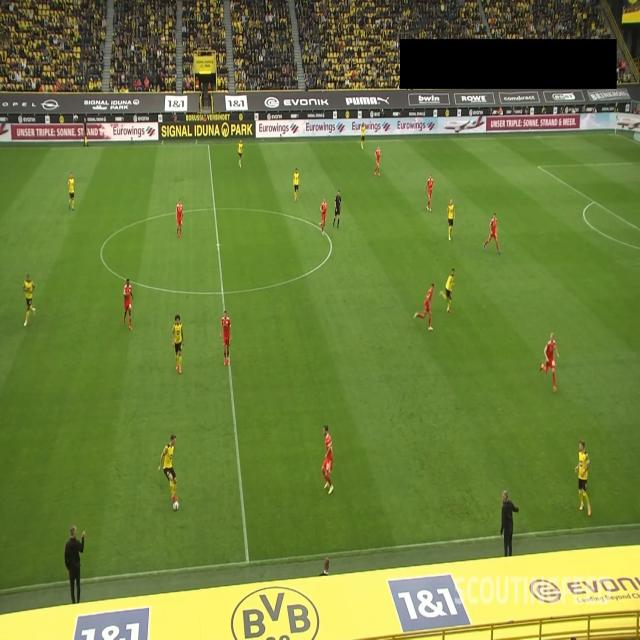ball: (172, 500, 179, 513)
